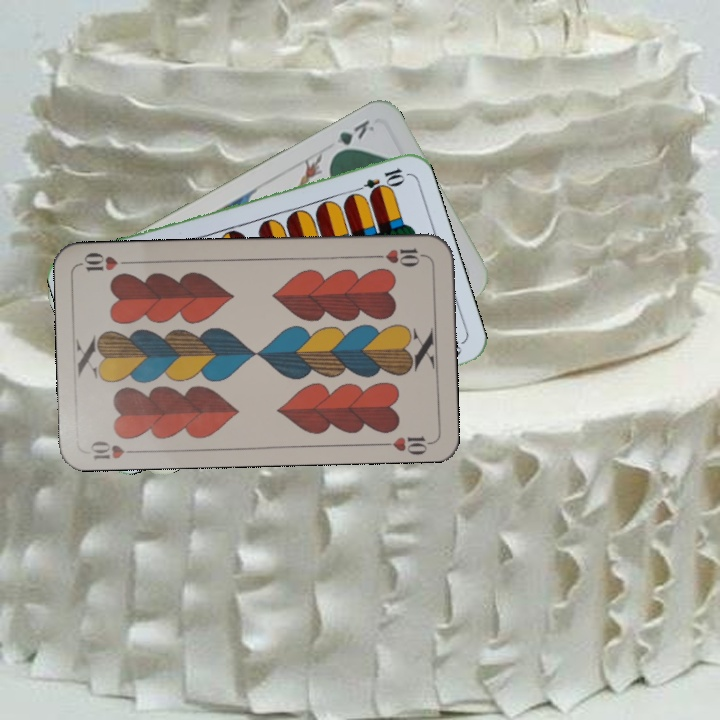E10: (349, 164, 407, 197)
GK: (328, 116, 377, 159)
H10: (86, 437, 143, 462), (369, 245, 428, 268)
